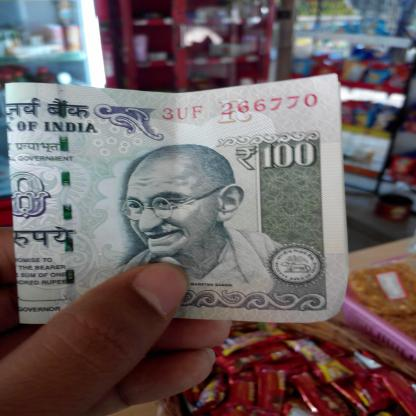Old100Front: (2, 74, 351, 326)
